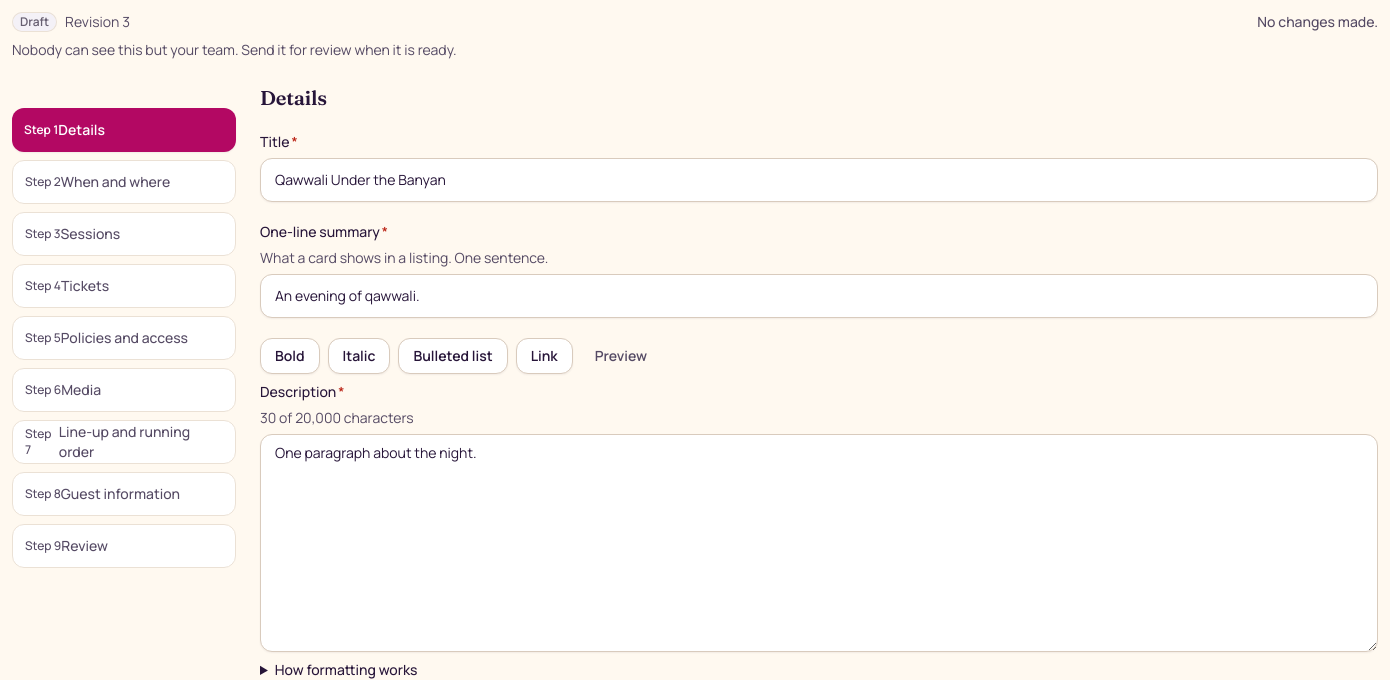
the steps › hands one revision to every step, so they cannot drift apart
The width and height of the screenshot is (1390, 680).
Type "!" into the field labelled "Title*" at [819, 180], box [260,158,1378,202]
Wait 2000 ms
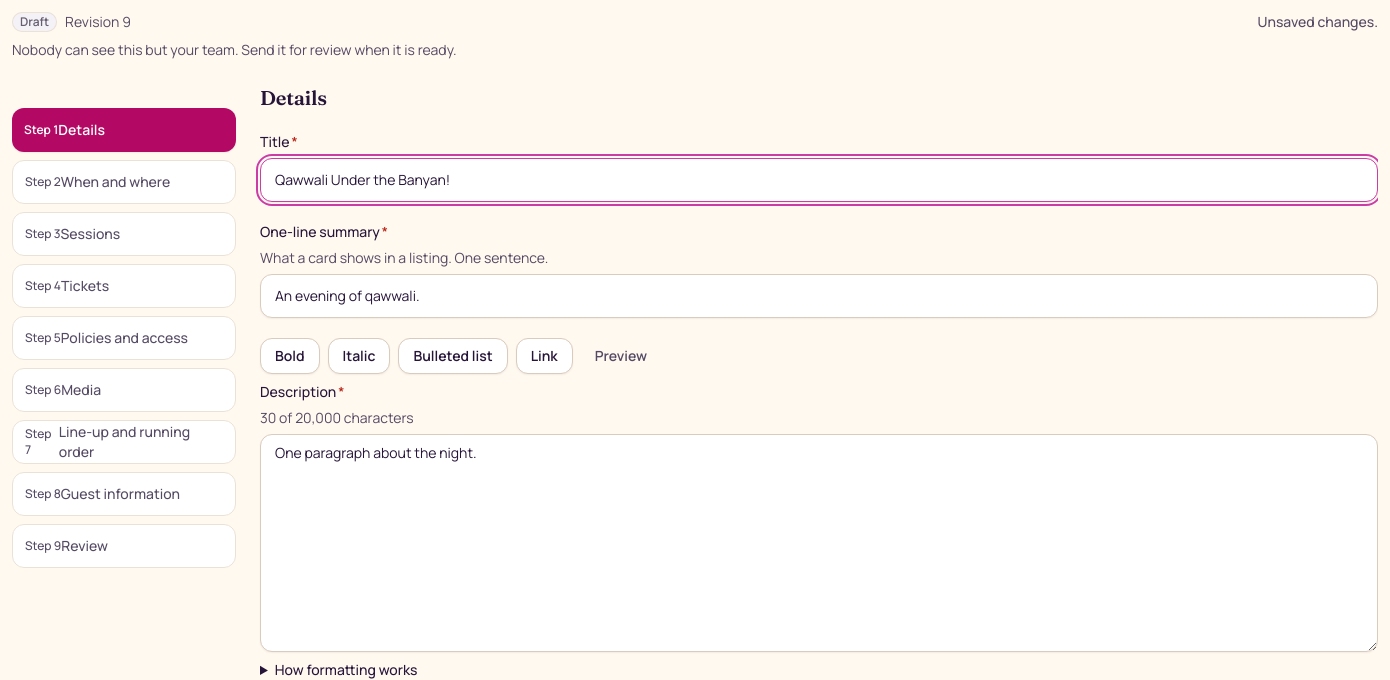
Expected: the text "Revision 9" is shown, [65,12,131,32]
Click the button "Step 3 Sessions" at [124, 234], box [12,212,236,256]
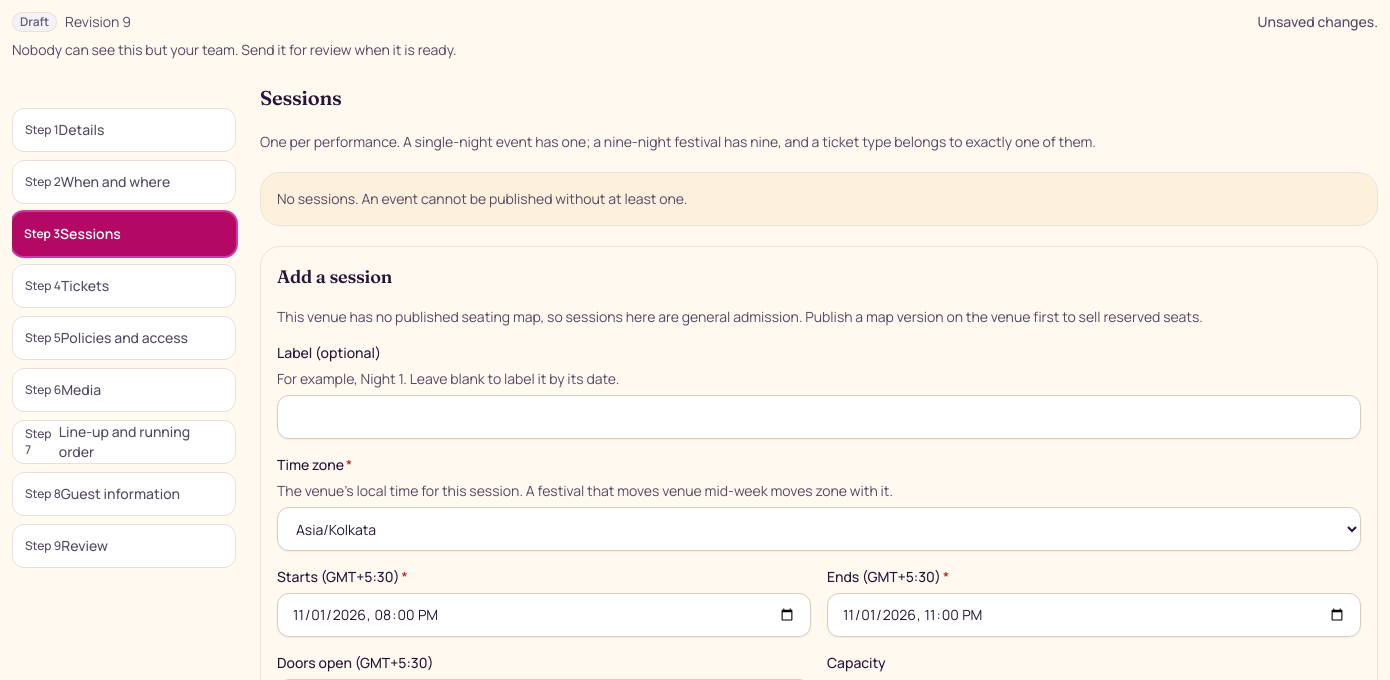
Expected: the text "Revision 9" is shown, [65,12,131,32]
Expected: the heading "Sessions" is shown, [260,85,342,110]
